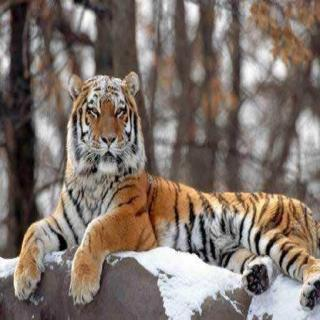Tiger: (4, 66, 320, 306)
